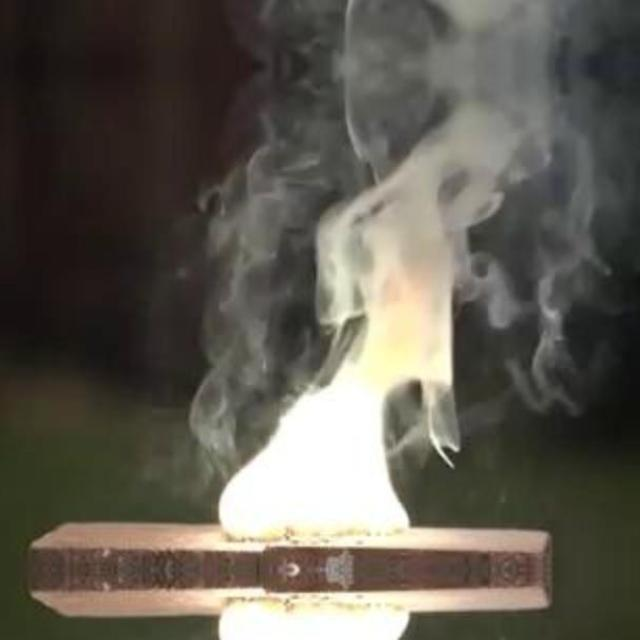fire: (306, 0, 592, 381)
smoke: (212, 350, 426, 544), (212, 595, 426, 640)
